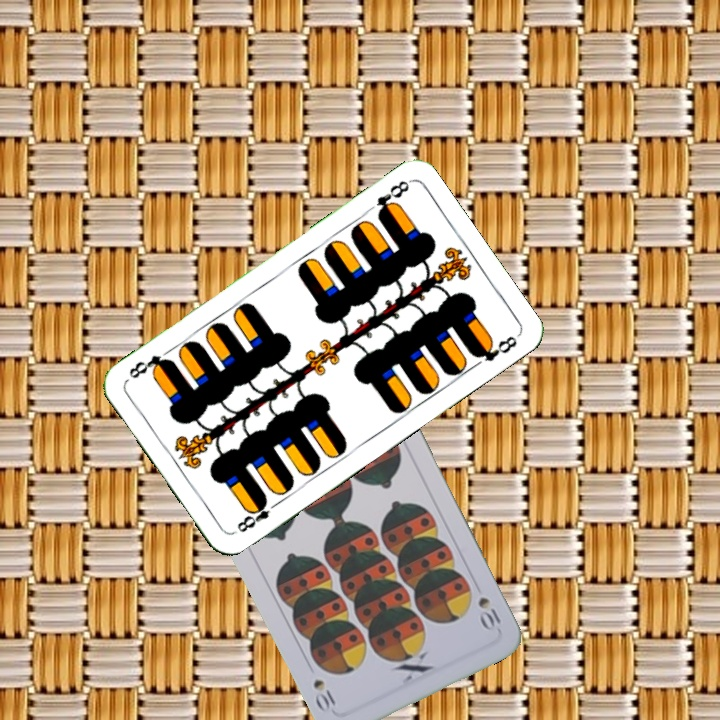E8: (232, 494, 283, 535), (372, 176, 413, 221)
S10: (474, 593, 504, 631)
